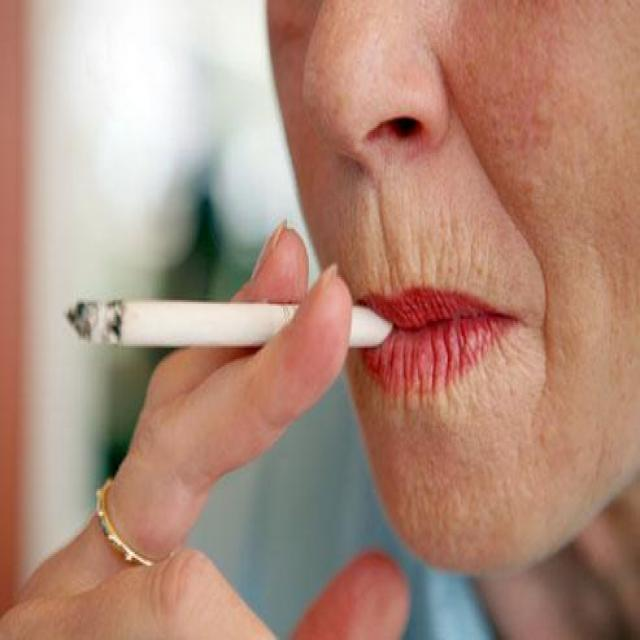Сигарета: (65, 294, 389, 350)
Тело: (11, 4, 640, 640)
